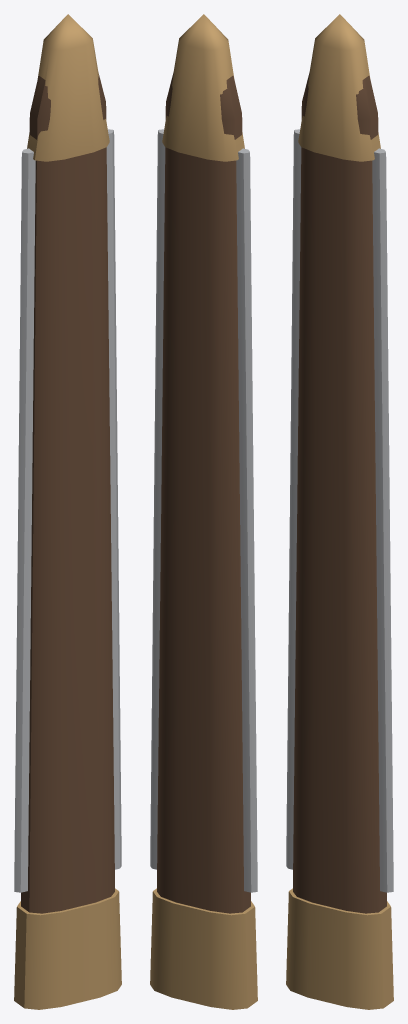
The model's file is sharpened-combat-scabbard.glb.
3 views of the same model, side by side, from view 1: azimuth 30°, elevation 25°; view 2: azimuth 150°, elevation 25°; view 3: azimuth 330°, elevation 25° (orthographic).
Parts seen in each view (by area): view 1: sharpened-combat-scabbard; view 2: sharpened-combat-scabbard; view 3: sharpened-combat-scabbard.
Part boxes in pixels (x1,y1,x2,y2): sharpened-combat-scabbard: (14,14,121,1009); sharpened-combat-scabbard: (150,14,257,1009); sharpened-combat-scabbard: (286,14,393,1009).
Bounding box in the file's own units: 0.168 × 1.46 × 0.0703.
